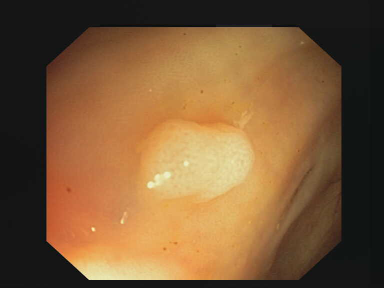polyp: (109, 93, 266, 214)
